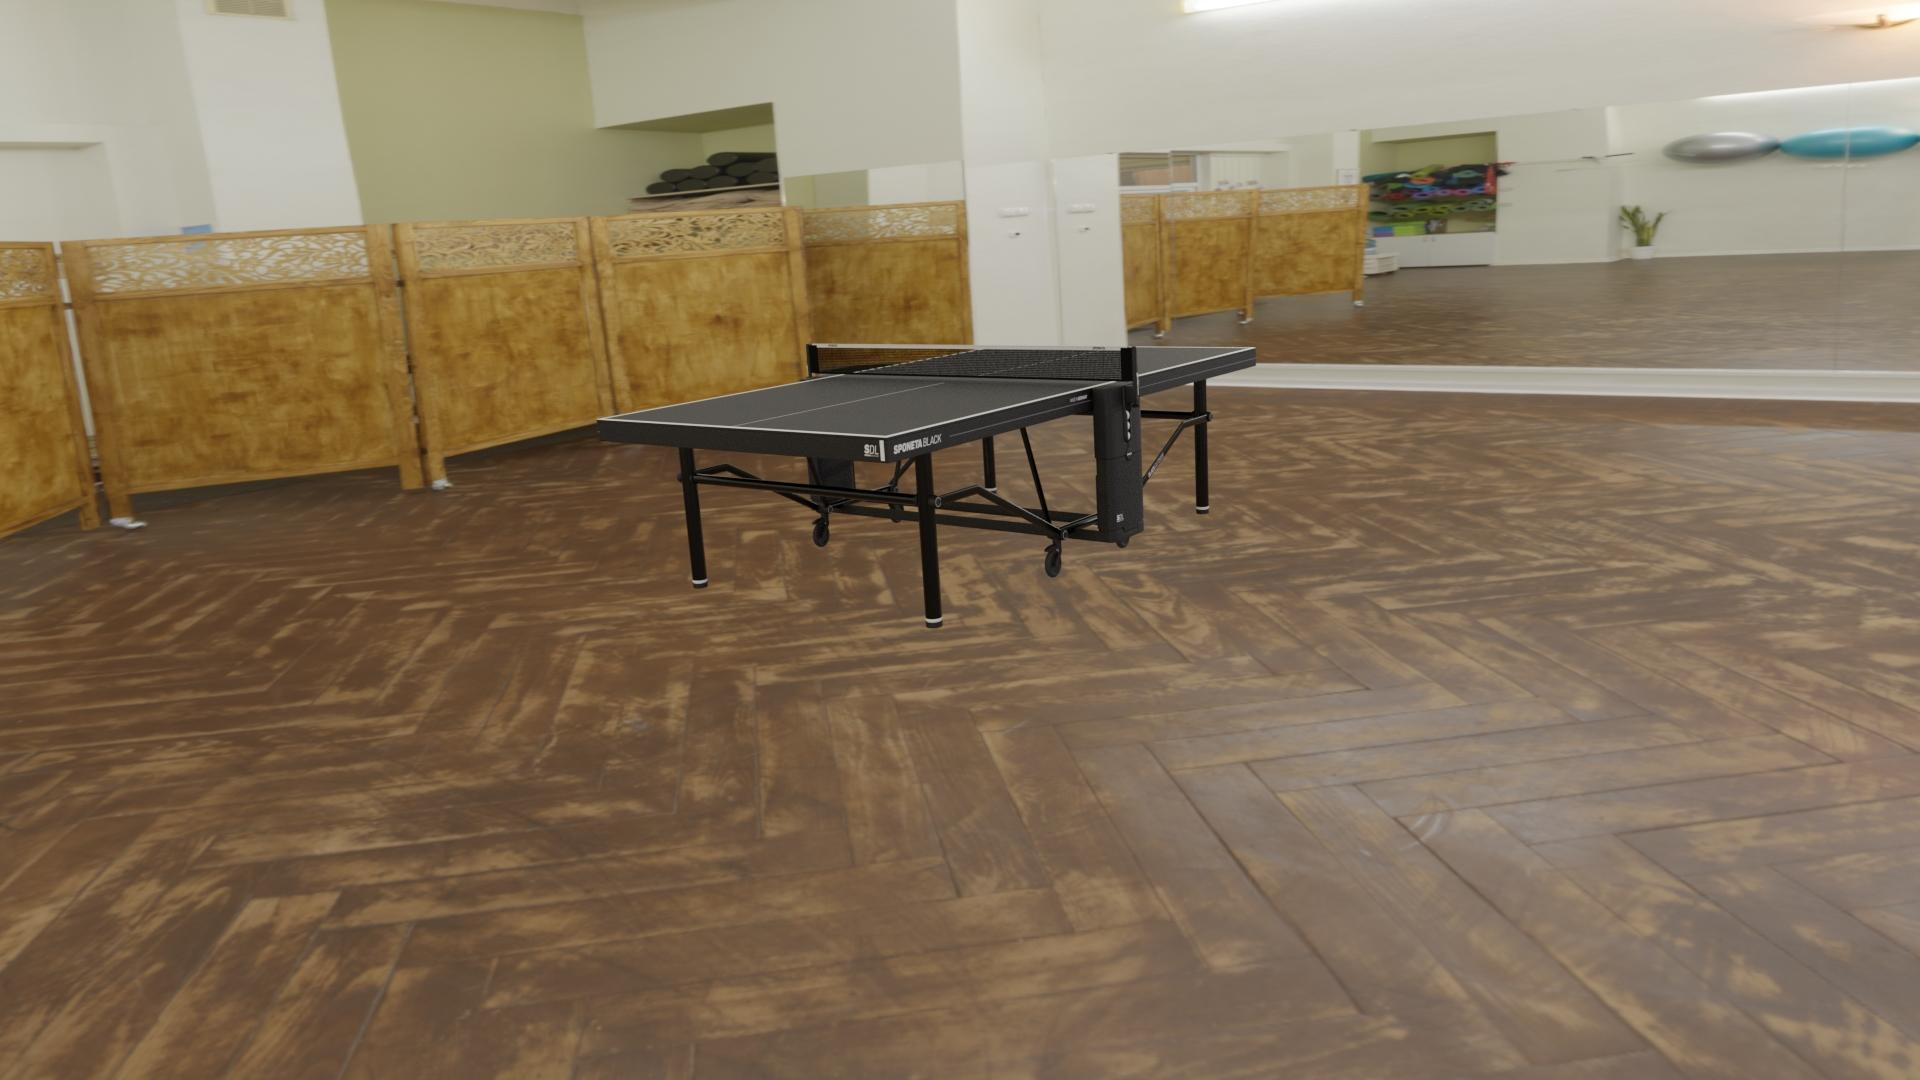table: (604, 345, 1250, 436)
